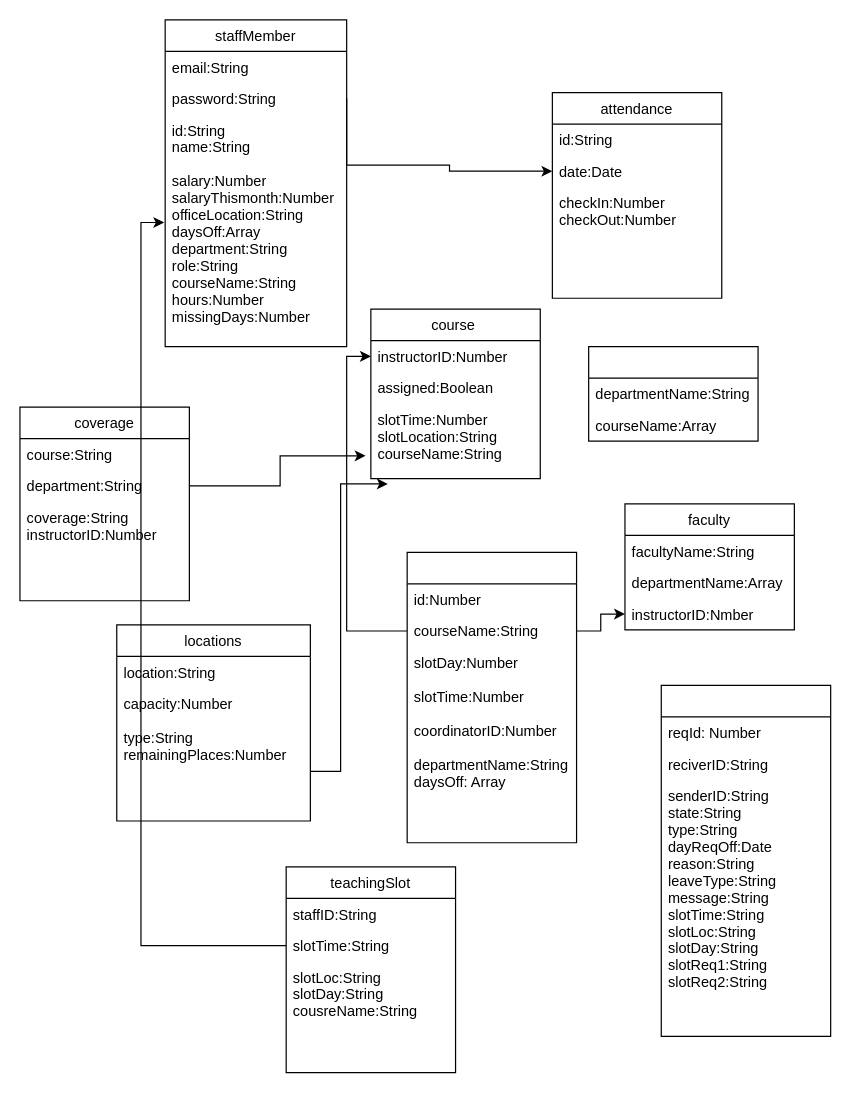
This 851x1093 diagram has some shape labels left out. Here are the shapes that lost their labels. From the top down, the box of each, then its label:
(587, 345, 758, 441): courseDep
(406, 551, 577, 843): instructors
(660, 684, 831, 1036): requests
